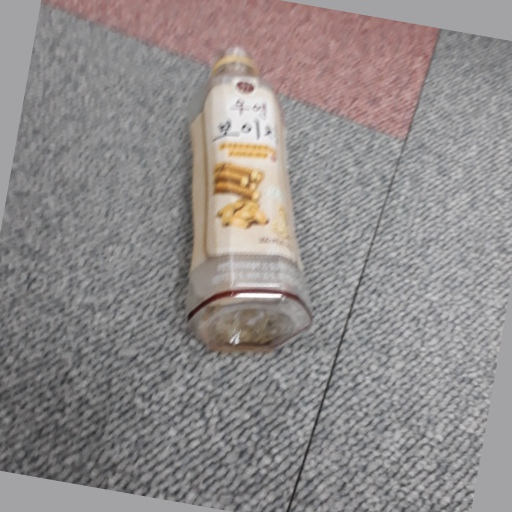Plastic_0: (180, 42, 317, 358)
